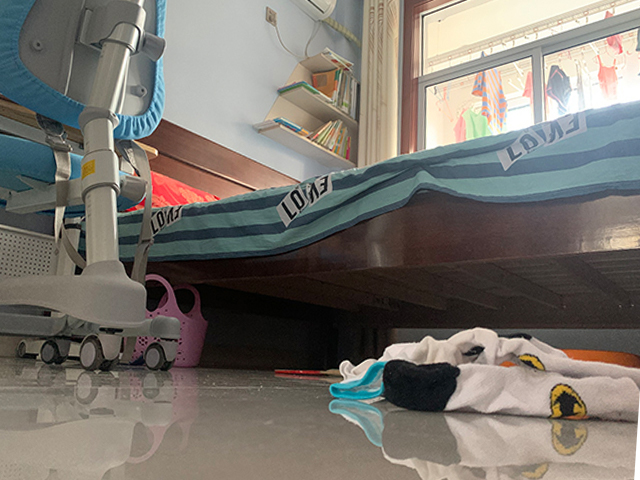bed: (75, 100, 640, 370)
socks: (376, 355, 640, 422)
